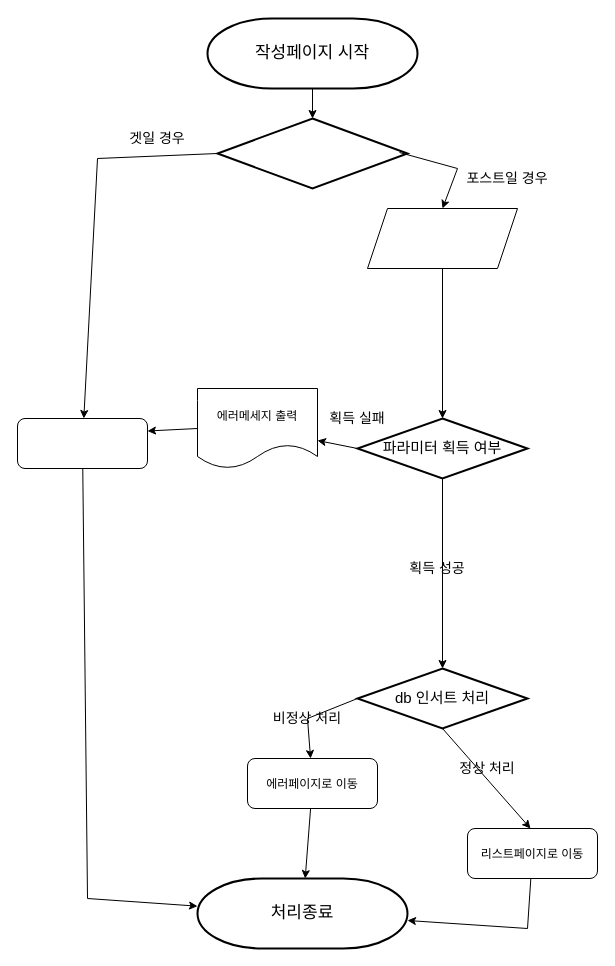
The diagram is 615 pixels wide and 966 high, and some of its shapes have lost their labels. Here are the shapes that lost their labels. From the top down, the box of each, then its label:
(216, 117, 408, 189): http method 확인
(366, 208, 518, 268): 파라미터 title, comtent 획득
(16, 418, 148, 468): 화면 표시
